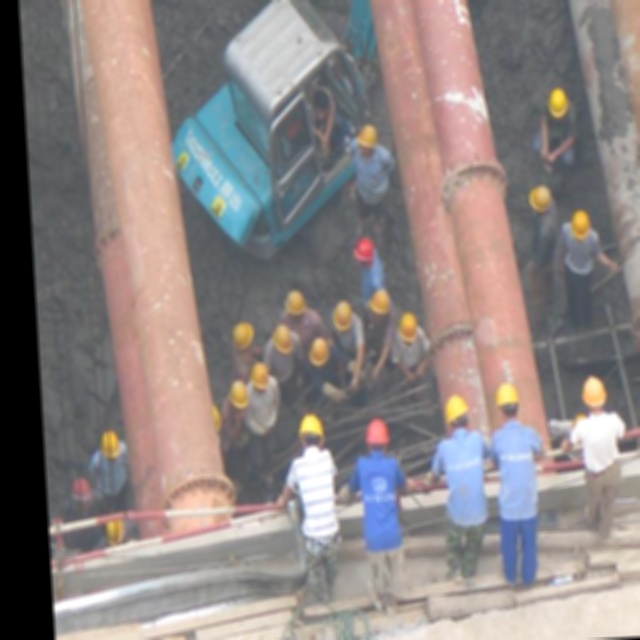Con_Casco: (441, 393, 469, 432), (362, 419, 389, 455), (298, 412, 325, 448), (495, 382, 521, 419), (355, 126, 378, 164), (396, 311, 418, 345)
Sin_Chaleco: (492, 426, 542, 521), (436, 433, 487, 522), (292, 450, 339, 540), (359, 454, 403, 550)
